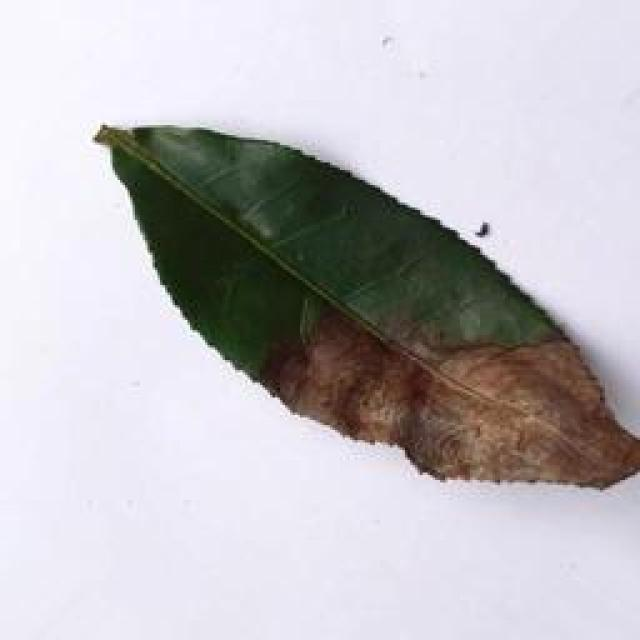Brown Blight: (95, 125, 635, 493)
